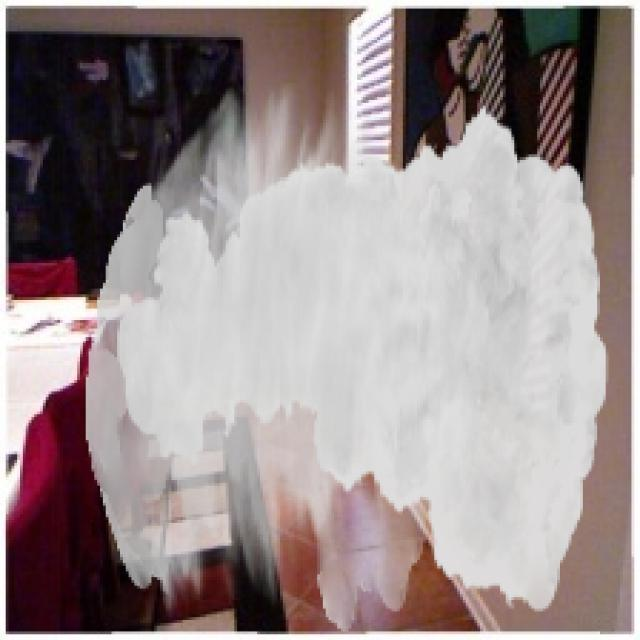Smoke: (86, 83, 608, 632)
